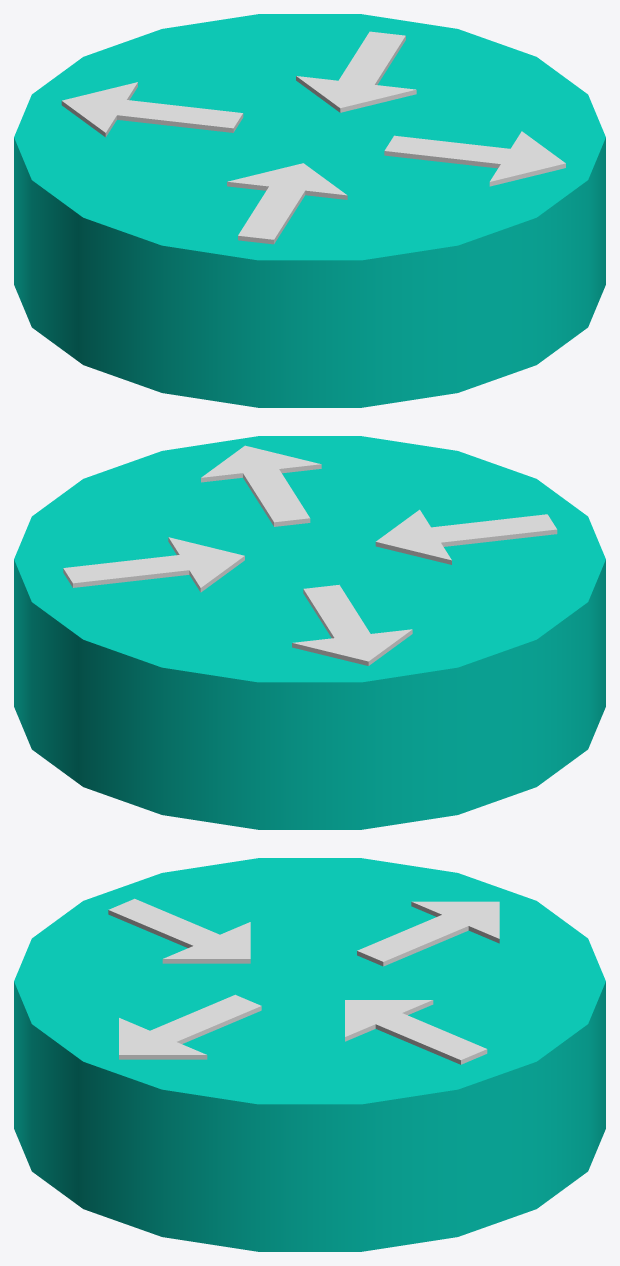
Rendered from switch.gltf.
The picture shows the model from 3 angles, top to bottom: view 1: azimuth 30°, elevation 25°; view 2: azimuth 150°, elevation 25°; view 3: azimuth 270°, elevation 25°; orthographic projection.
Visible parts, largest first — view 1: 对象420, Cylinder050, Rectangle007; view 2: 对象420, Cylinder050, Rectangle007; view 3: 对象420, Cylinder050, Rectangle007.
Boxes of the visible parts, x1,y1,x2,y2 form: 对象420: (14,14,605,260); Cylinder050: (14,138,605,407); Rectangle007: (61,31,565,244); 对象420: (14,436,605,682); Cylinder050: (14,560,605,829); Rectangle007: (63,445,557,665); 对象420: (14,858,605,1104); Cylinder050: (14,982,605,1251); Rectangle007: (108,898,499,1064).
Bounding box in the file's own units: 0.4437 × 0.1277 × 0.4505.
